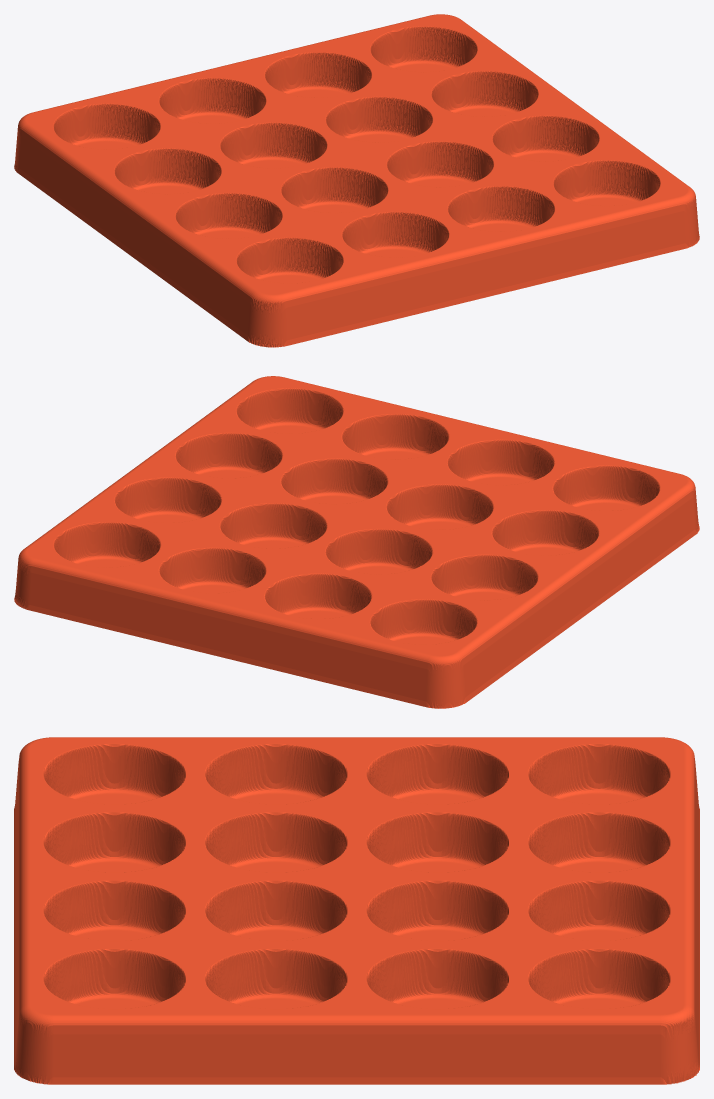
Rendered from mold.glb.
The picture shows the model from 3 angles, top to bottom: view 1: azimuth 30°, elevation 25°; view 2: azimuth 150°, elevation 25°; view 3: azimuth 270°, elevation 25°; orthographic projection. The views are drawn at different scales.
Visible parts, largest first — view 1: geometry_0; view 2: geometry_0; view 3: geometry_0.
Boxes of the visible parts, x1,y1,x2,y2 form: geometry_0: (14, 14, 699, 347); geometry_0: (14, 376, 699, 708); geometry_0: (14, 737, 699, 1084).
Bounding box in the file's own units: 0.1569 × 0.0159 × 0.1569.
